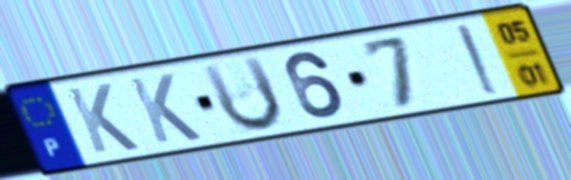6: (282, 49, 348, 122)
7: (358, 32, 423, 110)
I: (451, 21, 505, 98)
K: (124, 71, 206, 147), (62, 81, 143, 157)
U: (197, 52, 287, 136)
